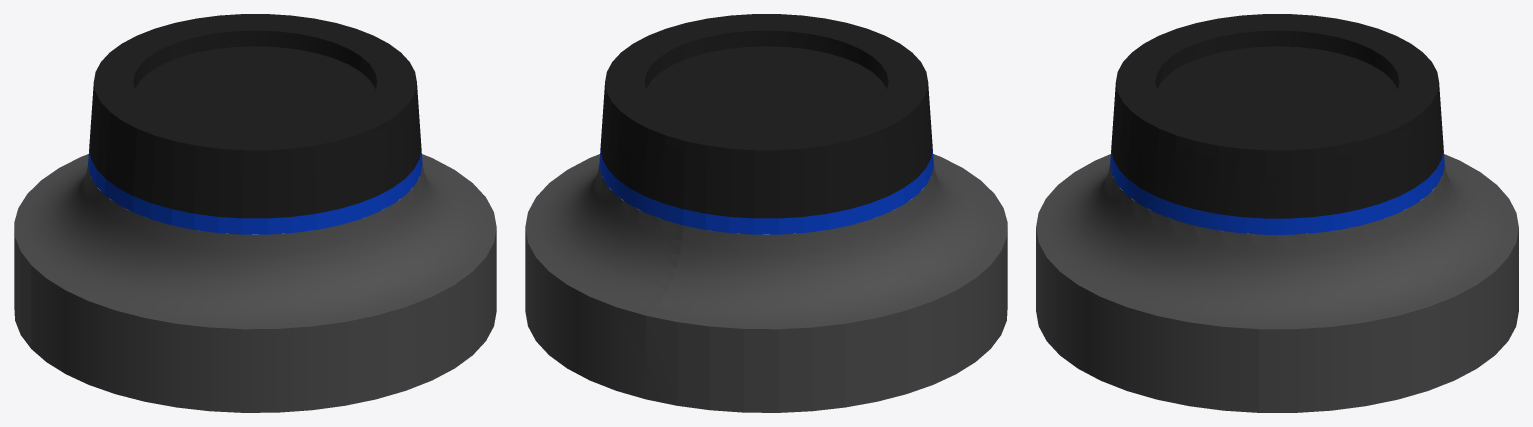
3 views of the same model, side by side, from view 1: azimuth 30°, elevation 25°; view 2: azimuth 150°, elevation 25°; view 3: azimuth 270°, elevation 25° (orthographic).
Visible parts, largest first — view 1: mesh; view 2: mesh; view 3: mesh.
Part boxes in pixels (x1,y1,x2,y2): mesh: (14,14,496,412); mesh: (525,14,1007,412); mesh: (1036,14,1518,412).
Size of the model in its own units: 0.1382 by 0.1384 by 0.0725.
